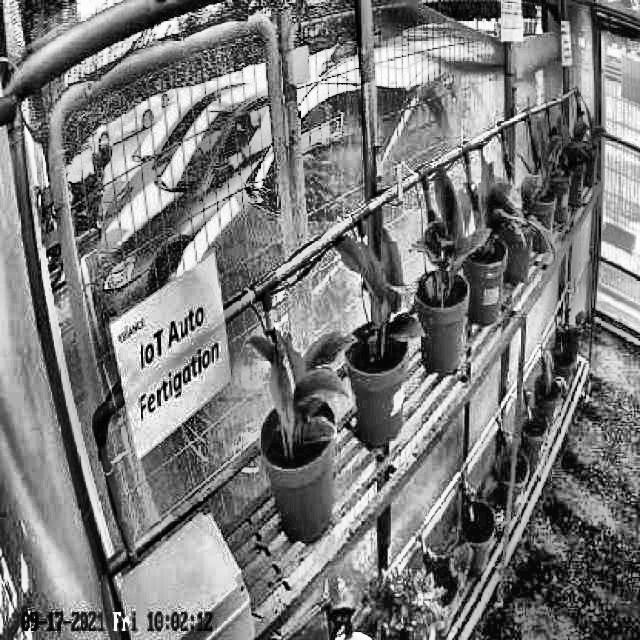plants: (248, 328, 356, 444), (332, 229, 426, 345), (414, 164, 482, 290), (472, 150, 522, 256)
